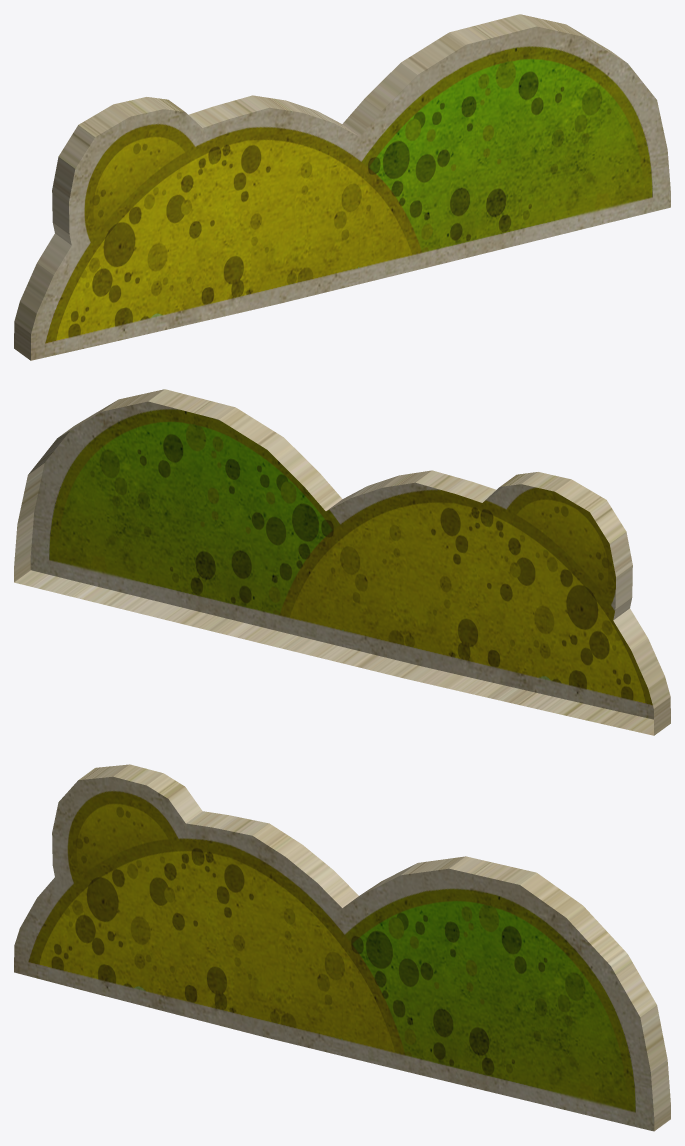
Rendered from plant.FBX.
The picture shows the model from 3 angles, top to bottom: view 1: azimuth 30°, elevation 25°; view 2: azimuth 150°, elevation 25°; view 3: azimuth 330°, elevation 25°; orthographic projection.
Parts seen in each view (by area): view 1: Plane02; view 2: Plane02; view 3: Plane02.
Boxes of the visible parts, x1,y1,x2,y2 form: Plane02: (14, 14, 670, 360); Plane02: (14, 389, 670, 735); Plane02: (14, 764, 670, 1131).
Bounding box in the file's own units: 82.18 × 27.42 × 3.74.
